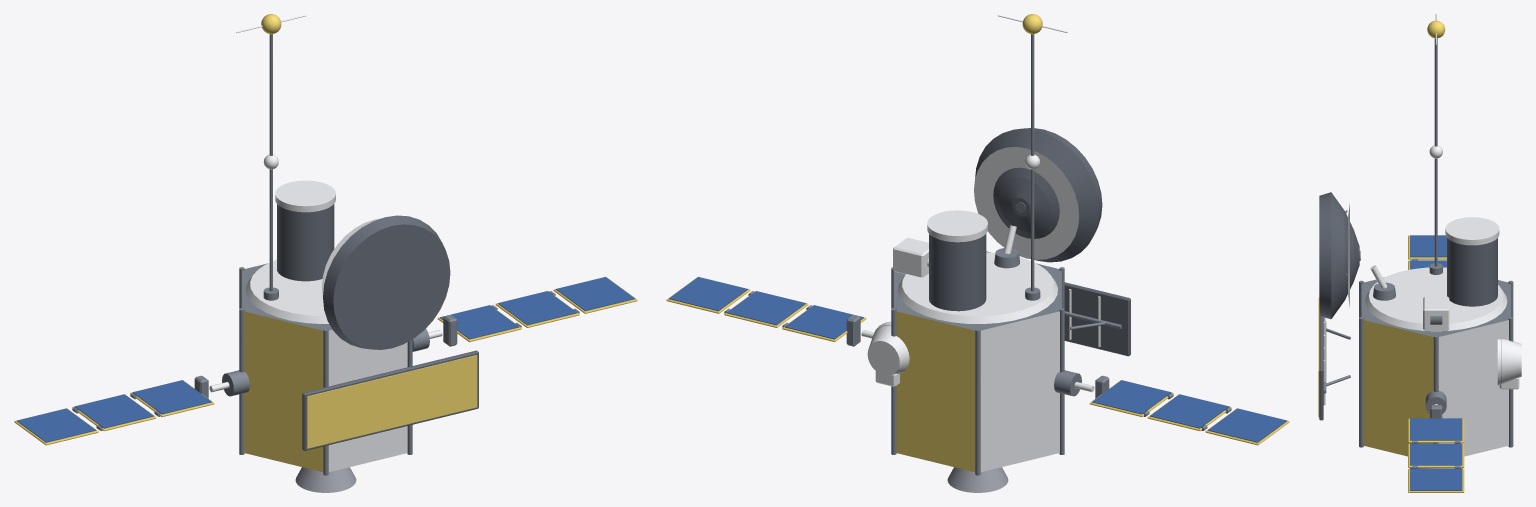
The model's file is modular_spacecraft_fully_configured.glb.
3 views of the same model, side by side, from view 1: azimuth 30°, elevation 25°; view 2: azimuth 150°, elevation 25°; view 3: azimuth 270°, elevation 25° (orthographic). The views are drawn at different scales.
Visible parts, largest first — view 1: Spacecraft_GoldKaptonMLI, Spacecraft_CarbonCompositeStructure, Spacecraft_WhippleShieldAlloy, Spacecraft_SolarArrayCells, Spacecraft_AnodizedHardwareAndTruss, Spacecraft_SolarPanelSubstrate, Spacecraft_PropulsionNozzlesAndTanks; view 2: Spacecraft_WhippleShieldAlloy, Spacecraft_CarbonCompositeStructure, Spacecraft_GoldKaptonMLI, Spacecraft_SolarArrayCells, Spacecraft_AnodizedHardwareAndTruss, Spacecraft_SolarPanelSubstrate, Spacecraft_PropulsionNozzlesAndTanks; view 3: Spacecraft_WhippleShieldAlloy, Spacecraft_GoldKaptonMLI, Spacecraft_CarbonCompositeStructure, Spacecraft_AnodizedHardwareAndTruss, Spacecraft_SolarArrayCells, Spacecraft_SolarPanelSubstrate.
Boxes of the visible parts, x1,y1,x2,y2 form: Spacecraft_GoldKaptonMLI: (244,14,477,471); Spacecraft_CarbonCompositeStructure: (277,204,478,450); Spacecraft_WhippleShieldAlloy: (209,15,442,471); Spacecraft_SolarArrayCells: (17,277,635,442); Spacecraft_AnodizedHardwareAndTruss: (72,34,579,475); Spacecraft_SolarPanelSubstrate: (14,276,637,445); Spacecraft_PropulsionNozzlesAndTanks: (295,467,356,492); Spacecraft_WhippleShieldAlloy: (861,15,1100,471); Spacecraft_CarbonCompositeStructure: (929,128,1130,356); Spacecraft_GoldKaptonMLI: (896,14,1042,471); Spacecraft_SolarArrayCells: (668,277,1286,442); Spacecraft_AnodizedHardwareAndTruss: (724,34,1231,475); Spacecraft_SolarPanelSubstrate: (666,276,1289,445); Spacecraft_PropulsionNozzlesAndTanks: (947,467,1008,492); Spacecraft_WhippleShieldAlloy: (1323,14,1521,456); Spacecraft_GoldKaptonMLI: (1318,20,1445,456); Spacecraft_CarbonCompositeStructure: (1319,192,1497,420); Spacecraft_AnodizedHardwareAndTruss: (1323,38,1513,468); Spacecraft_SolarArrayCells: (1410,235,1462,490); Spacecraft_SolarPanelSubstrate: (1408,235,1464,492).
Size of the model in its own units: 8.09 by 6.25 by 2.71.
